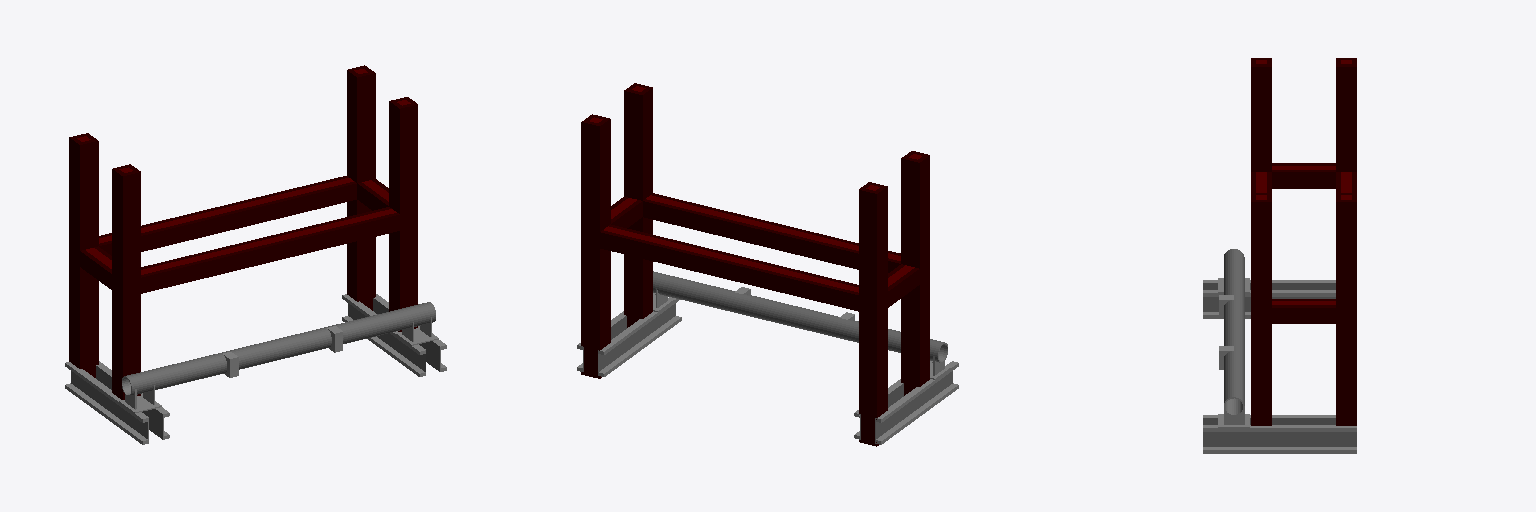
File: rmc_support_vertical.obj
3 renders of one model, left to right at view 1: azimuth 30°, elevation 25°; view 2: azimuth 150°, elevation 25°; view 3: azimuth 270°, elevation 25°, orthographic.
Bounding box in the file's own units: 3.4 × 2.69 × 1.5.